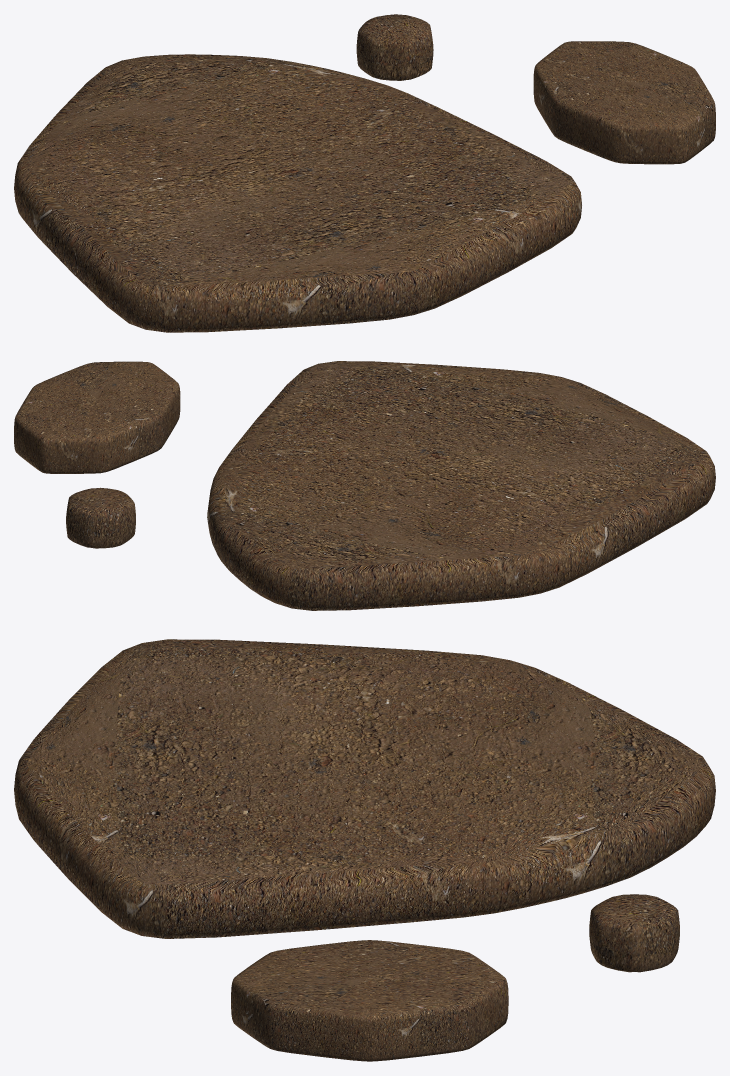
The model's file is soil_patches.fbx.
3 renders of one model, top to bottom at view 1: azimuth 30°, elevation 25°; view 2: azimuth 150°, elevation 25°; view 3: azimuth 270°, elevation 25°, orthographic. The views are drawn at different scales.
Visible parts, largest first — view 1: SoilPatch001, SoilPatch002, SoilPatch003; view 2: SoilPatch001, SoilPatch002, SoilPatch003; view 3: SoilPatch001, SoilPatch002, SoilPatch003.
Part boxes in pixels (<box>): SoilPatch001: <box>14,54,581,332</box>; SoilPatch002: <box>533,41,715,164</box>; SoilPatch003: <box>356,14,433,80</box>; SoilPatch001: <box>207,361,715,610</box>; SoilPatch002: <box>14,361,180,473</box>; SoilPatch003: <box>66,487,135,548</box>; SoilPatch001: <box>14,639,715,938</box>; SoilPatch002: <box>231,940,508,1061</box>; SoilPatch003: <box>589,894,679,972</box>.
Size of the model in its own units: 18.27 by 1.42 by 14.39.
1 material, 1 textured.
